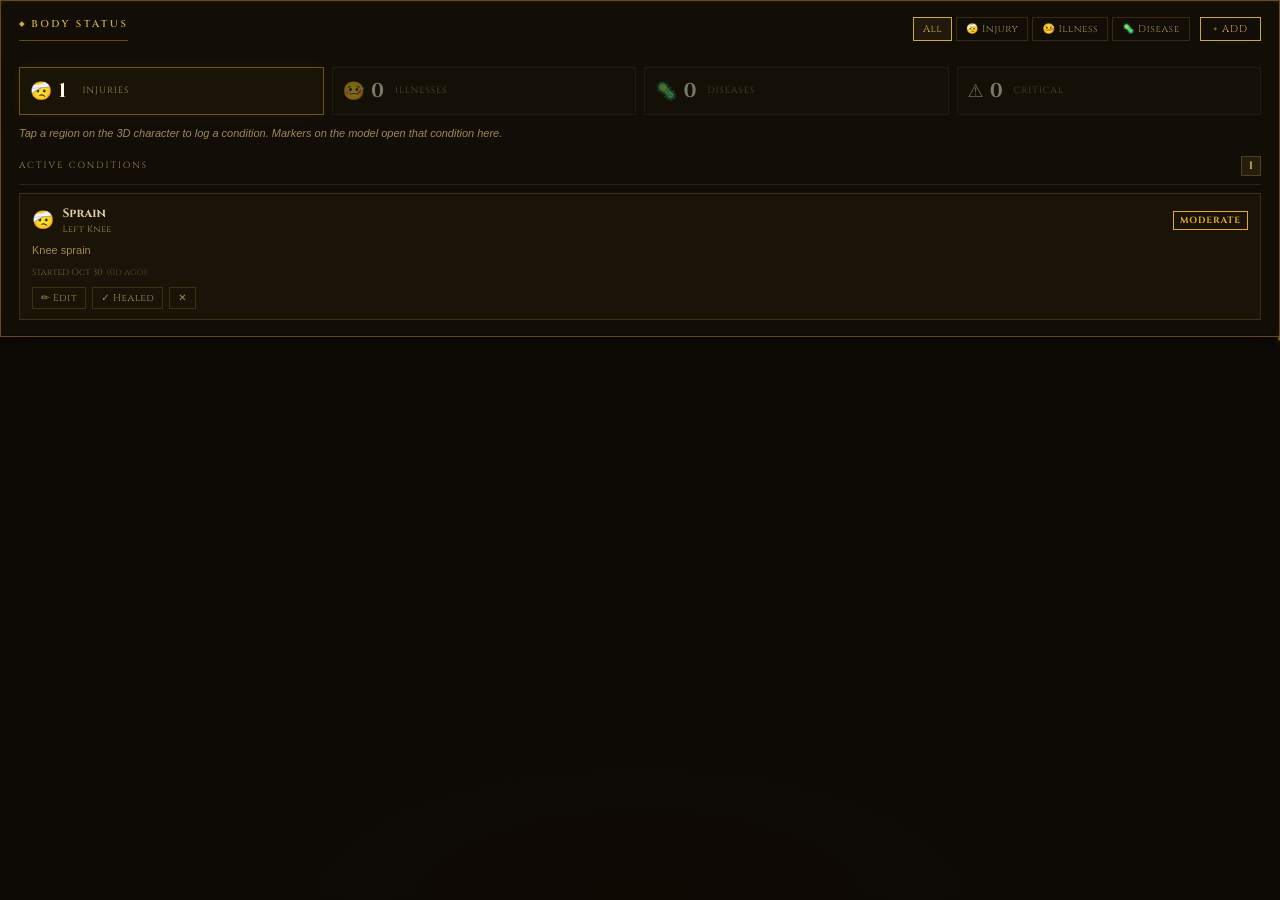
Test: BodyDiagramComponent › condition management › + ADD opens the shared modal without a pre-selected zone
Click the button with class "bs-add-btn": (1230, 29) [1200,17,1261,41]
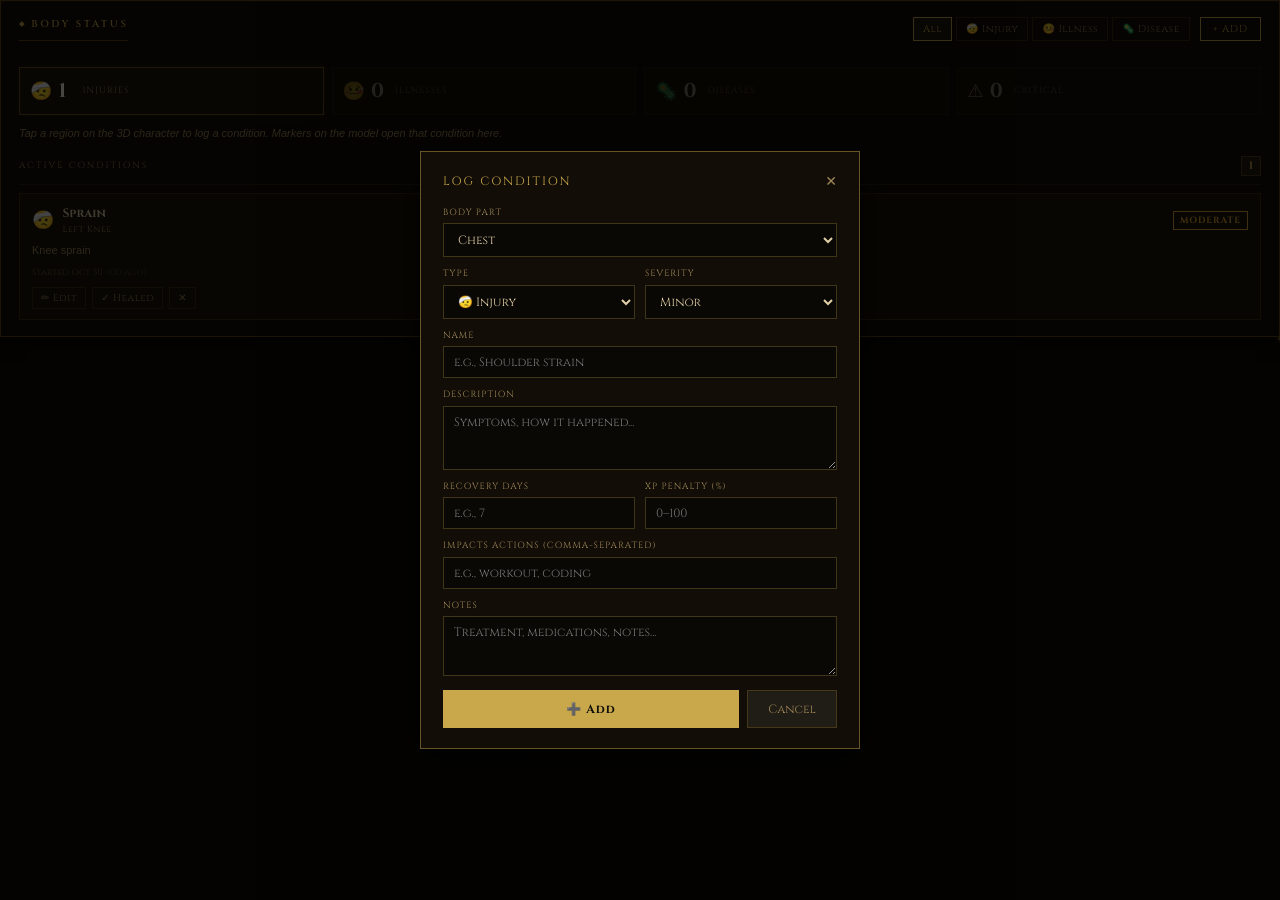
Check: the text with class "bs-modal-title" reads "LOG CONDITION", box [443,173,572,189]
